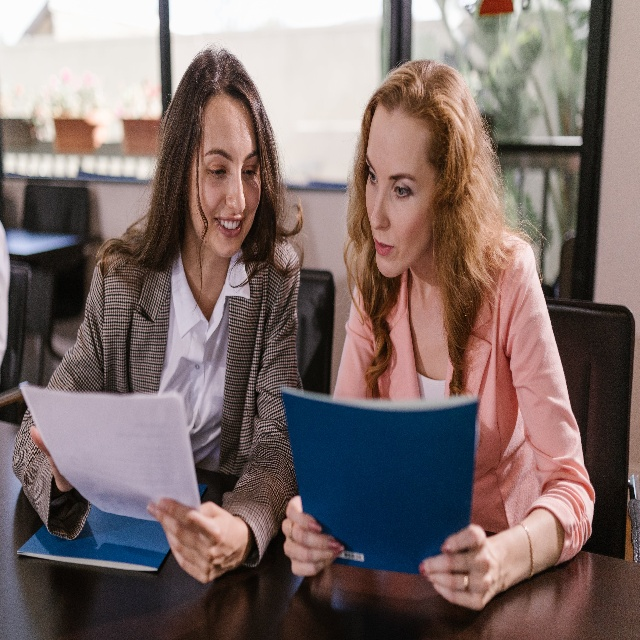Sin_guantes: (144, 480, 245, 586), (420, 523, 502, 613), (281, 489, 342, 579), (28, 423, 73, 493)
